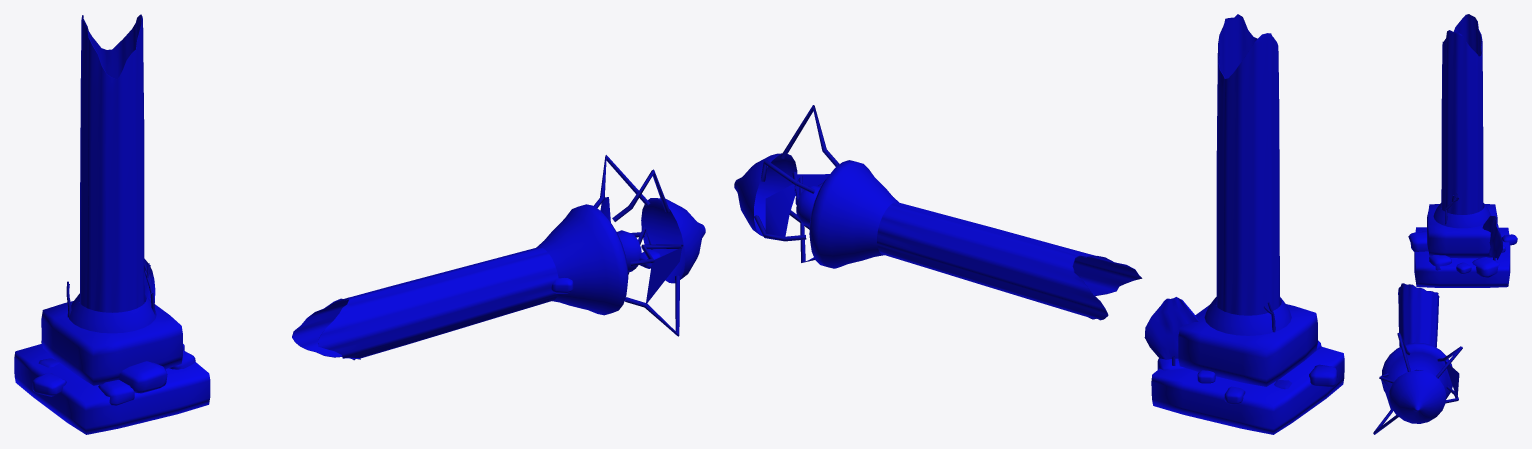
Rendered from lamp_column_fallen.glb.
The picture shows the model from 3 angles, left to right: view 1: azimuth 30°, elevation 25°; view 2: azimuth 150°, elevation 25°; view 3: azimuth 270°, elevation 25°; orthographic projection. The views are drawn at different scales.
Visible parts, largest first — view 1: lamp_column_fallen; view 2: lamp_column_fallen; view 3: lamp_column_fallen.
Part boxes in pixels (<box>): lamp_column_fallen: <box>14,14,705,434</box>; lamp_column_fallen: <box>734,14,1344,434</box>; lamp_column_fallen: <box>1373,14,1517,434</box>.
Size of what is drawn, in the model's own units: 4.49 by 2.64 by 1.35.
